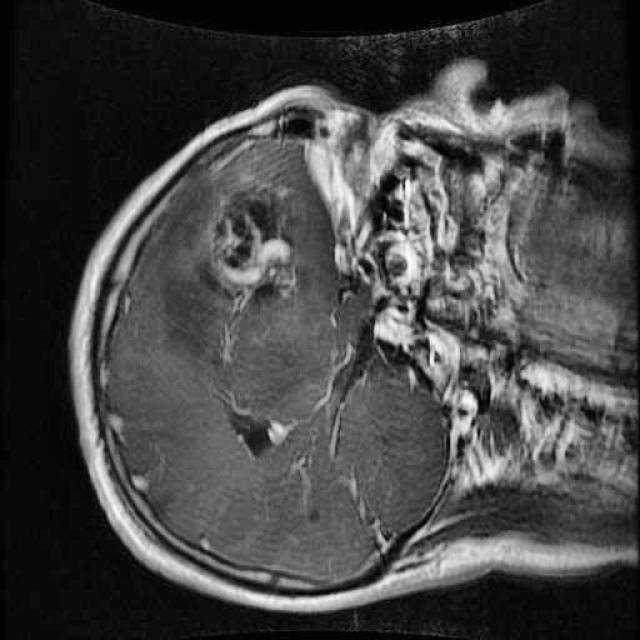Non-Tumor: (148, 160, 302, 375)
